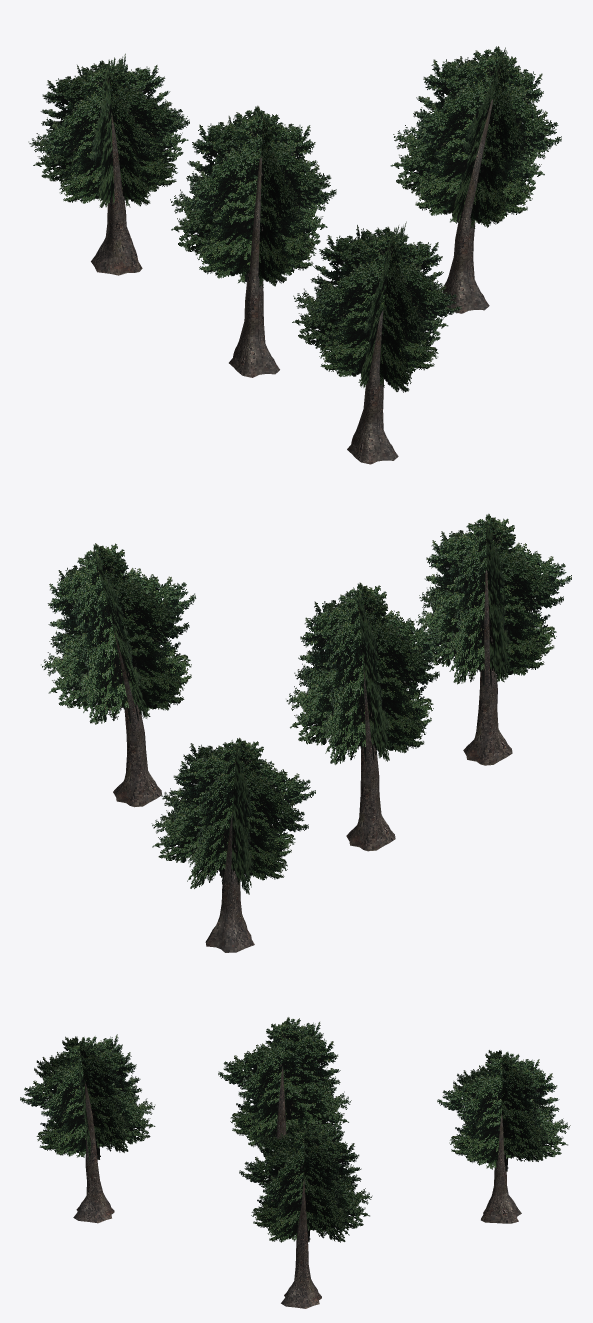
The model's file is tree_oak.glb.
3 views of the same model, one above another, from view 1: azimuth 30°, elevation 25°; view 2: azimuth 150°, elevation 25°; view 3: azimuth 270°, elevation 25° (orthographic). The views are drawn at different scales.
Parts seen in each view (by area): view 1: tree_oak1, tree_oak4, tree_oak2, tree_oak3; view 2: tree_oak1, tree_oak4, tree_oak2, tree_oak3; view 3: tree_oak2, tree_oak4, tree_oak3, tree_oak1.
Part boxes in pixels (box(x1,y1,x2,y2)): tree_oak1: box(170, 105, 336, 377); tree_oak4: box(390, 46, 561, 313); tree_oak2: box(292, 221, 461, 464); tree_oak3: box(28, 53, 189, 275); tree_oak1: box(286, 582, 446, 851); tree_oak4: box(41, 543, 196, 807); tree_oak2: box(415, 513, 571, 765); tree_oak3: box(151, 737, 315, 952); tree_oak2: box(20, 1034, 155, 1223); tree_oak4: box(239, 1120, 372, 1308); tree_oak3: box(437, 1050, 570, 1223); tree_oak1: box(218, 1017, 351, 1208).
Bounding box in the file's own units: 45.76 × 27.85 × 67.6.
1 material, 1 textured.
